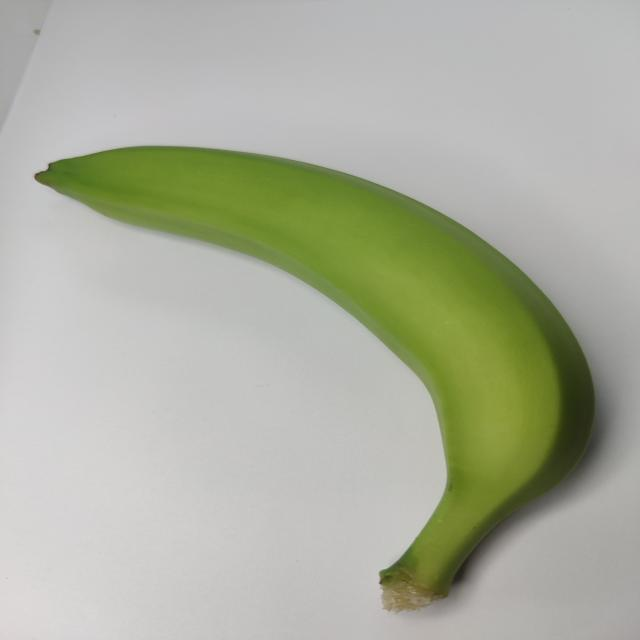raw: (21, 101, 605, 623)
